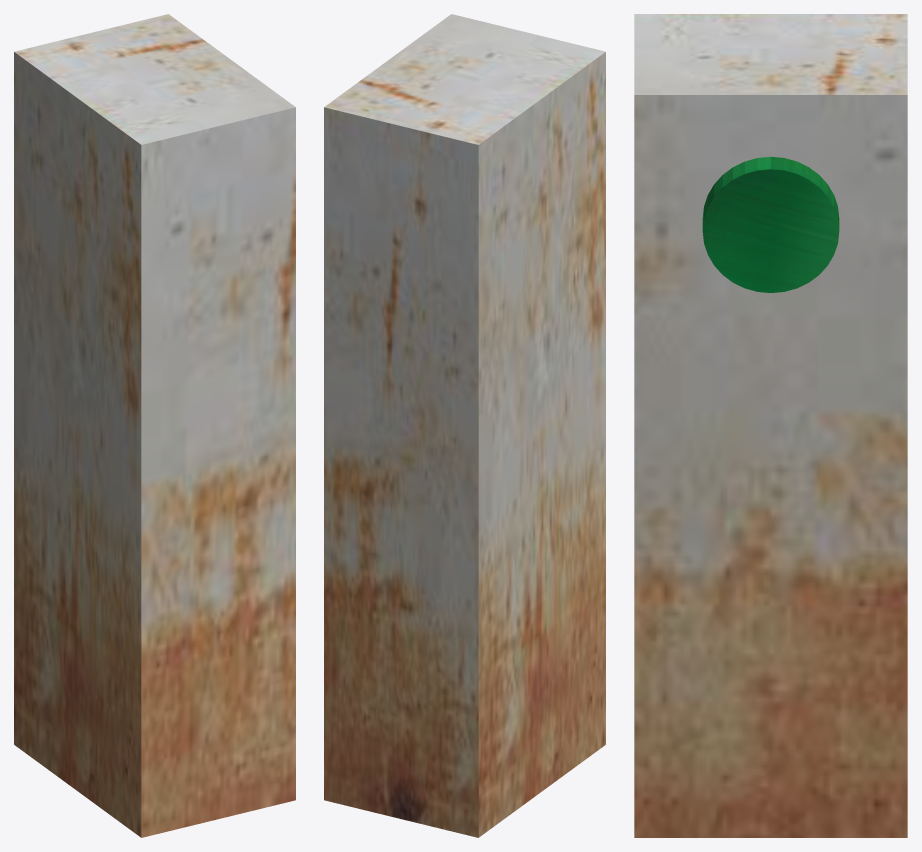
File: SwitchPressed.fbx
The picture shows the model from 3 angles, left to right: view 1: azimuth 30°, elevation 25°; view 2: azimuth 150°, elevation 25°; view 3: azimuth 270°, elevation 25°; orthographic projection. The views are drawn at different scales.
Parts seen in each view (by area): view 1: Cube; view 2: Cube; view 3: Cube, Cylinder.
Boxes of the visible parts, left/top/right/bottom form: Cube: left=14, top=14, right=295, bottom=837; Cube: left=324, top=14, right=605, bottom=837; Cube: left=634, top=14, right=907, bottom=837; Cylinder: left=702, top=156, right=839, bottom=292.
Size of the model in its own units: 162 by 600 by 200.
Materials: 2 (2 with a texture image).
